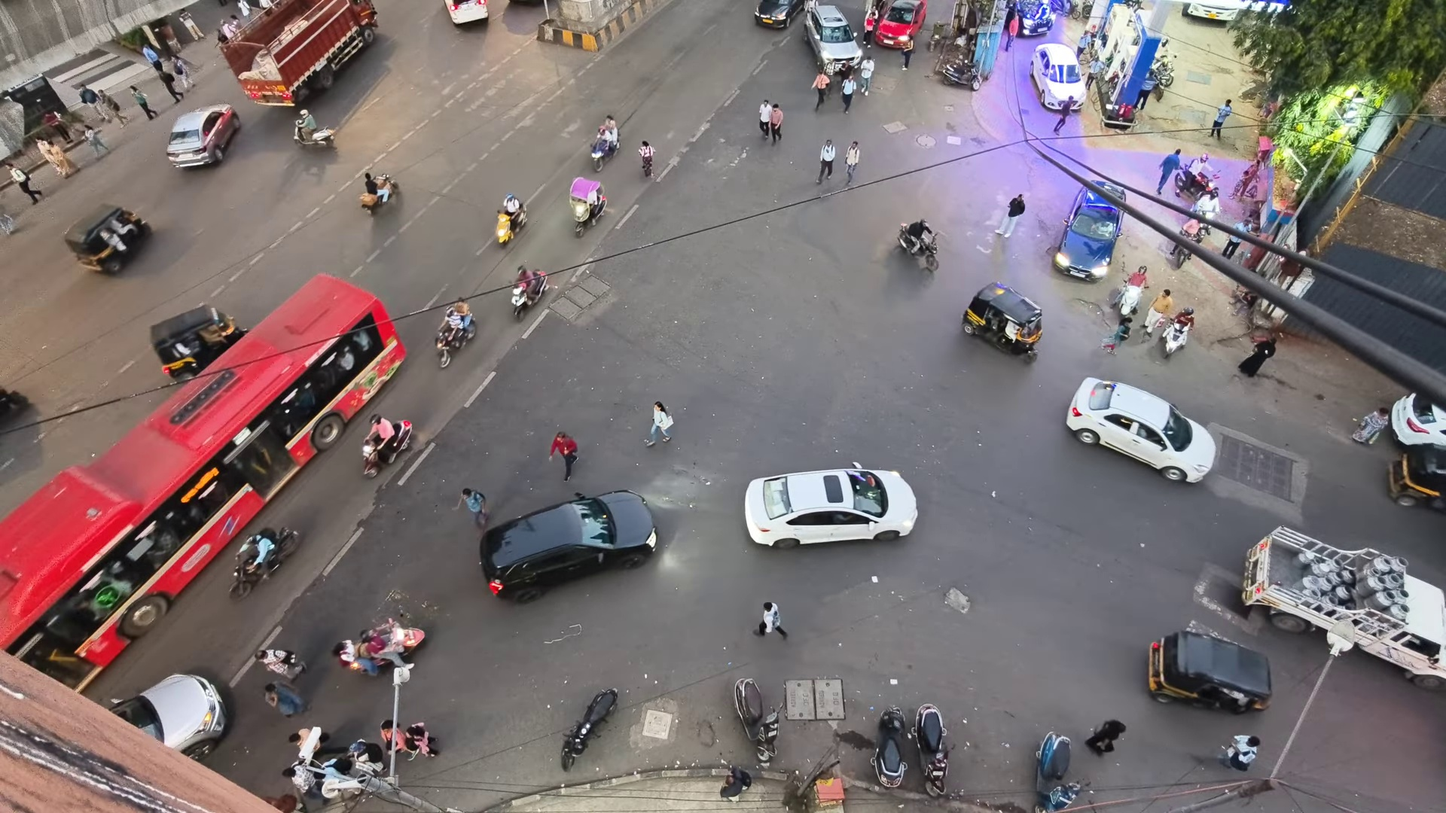driving: (0, 276, 404, 687), (1242, 527, 1445, 690), (480, 490, 657, 602), (218, 0, 377, 105), (1066, 378, 1216, 482), (744, 467, 917, 548), (1147, 631, 1271, 713), (110, 674, 227, 760), (150, 305, 246, 379), (1053, 187, 1122, 280), (962, 282, 1042, 361), (63, 203, 151, 274), (332, 618, 426, 675), (230, 526, 300, 598), (560, 688, 618, 769), (166, 104, 240, 167), (804, 5, 862, 75), (735, 678, 779, 765), (1034, 731, 1081, 812), (1388, 445, 1445, 510), (1030, 43, 1084, 110), (914, 703, 950, 796), (362, 419, 413, 477), (1390, 393, 1445, 446), (871, 707, 907, 787), (874, 0, 926, 47), (1182, 0, 1288, 21), (435, 314, 475, 368), (569, 178, 606, 236), (897, 223, 938, 271), (510, 272, 550, 319), (358, 174, 399, 214), (1116, 266, 1147, 316), (1174, 168, 1219, 202), (755, 0, 807, 28), (941, 56, 982, 90), (1016, 0, 1055, 35), (293, 117, 336, 148), (495, 207, 526, 245), (443, 0, 489, 25), (1150, 49, 1173, 98), (590, 132, 618, 171), (1162, 321, 1191, 358), (0, 387, 29, 416), (1179, 218, 1203, 244), (639, 141, 655, 178), (1069, 0, 1094, 20)
walking: (5, 162, 42, 205), (1238, 334, 1275, 376), (255, 649, 305, 680), (36, 139, 75, 178), (264, 683, 307, 717), (549, 431, 578, 481), (1351, 406, 1390, 443), (1143, 289, 1173, 337), (1221, 735, 1260, 771), (1085, 719, 1125, 754), (645, 401, 673, 446), (996, 193, 1025, 236), (404, 722, 439, 757), (459, 488, 488, 528), (755, 601, 786, 638), (1102, 316, 1132, 354), (79, 85, 110, 121), (720, 766, 751, 802), (96, 91, 127, 126), (1157, 148, 1180, 193), (41, 111, 73, 142), (130, 86, 157, 119), (1210, 99, 1232, 138), (1135, 73, 1157, 111), (817, 139, 835, 183), (83, 126, 109, 156), (1053, 96, 1074, 133), (159, 69, 182, 102), (1084, 54, 1105, 90), (172, 56, 194, 90), (1003, 2, 1018, 50), (811, 69, 829, 109), (845, 141, 859, 184), (142, 44, 163, 72), (859, 56, 874, 95), (863, 8, 878, 47), (840, 77, 856, 113), (758, 100, 772, 139), (1077, 27, 1094, 59), (770, 104, 782, 143), (1222, 234, 1241, 257), (901, 38, 914, 70), (236, 0, 250, 19)
